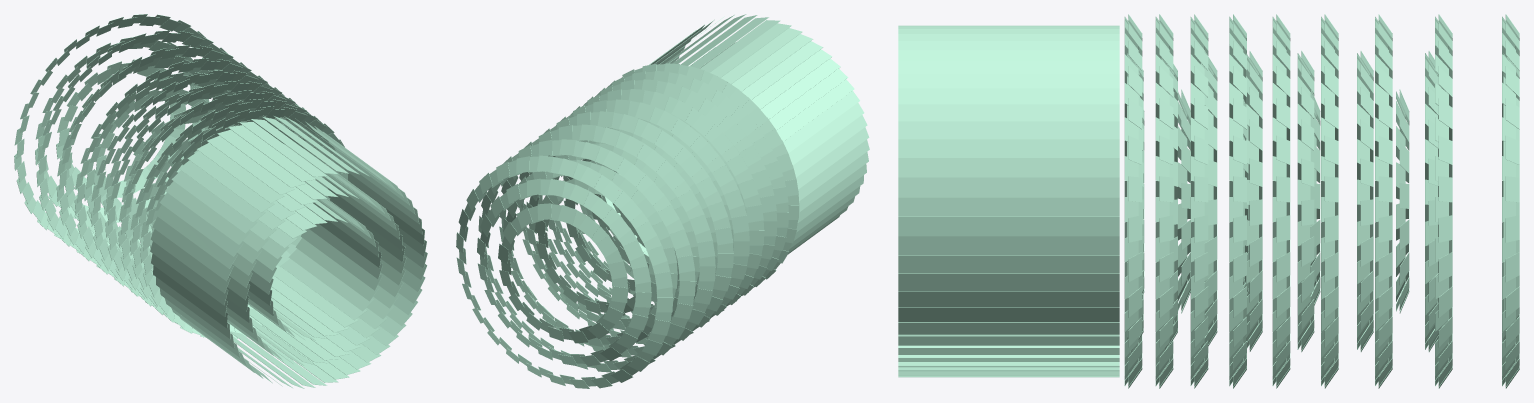
Rendered from ITK-Pixel-Layout-Outer-Barrel-cut1.glb.
3 views of the same model, side by side, from view 1: azimuth 30°, elevation 25°; view 2: azimuth 150°, elevation 25°; view 3: azimuth 270°, elevation 25° (orthographic). The views are drawn at different scales.
Visible parts, largest first — view 1: ITK_Pixel_Layout_Outer_Barrel Cut 1; view 2: ITK_Pixel_Layout_Outer_Barrel Cut 1; view 3: ITK_Pixel_Layout_Outer_Barrel Cut 1.
Part boxes in pixels (x1,y1,x2,y2): ITK_Pixel_Layout_Outer_Barrel Cut 1: (14,14,427,388); ITK_Pixel_Layout_Outer_Barrel Cut 1: (456,14,869,388); ITK_Pixel_Layout_Outer_Barrel Cut 1: (898,14,1519,388).
Bounding box in the file's own units: 0.6337 × 0.6337 × 1.05.
